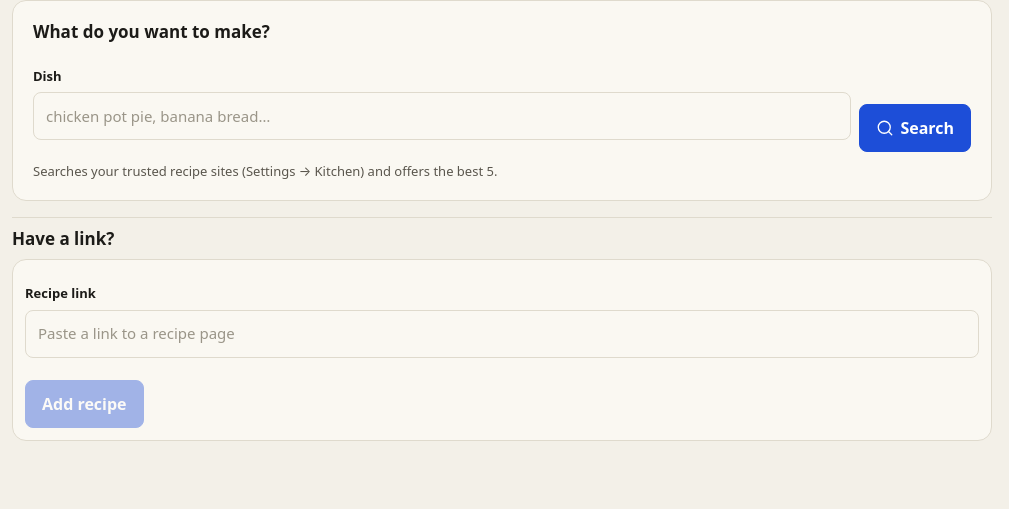
Search the web › finds a dish by name and ranks it by ratings and search position
Type "fried rice" into the search field labelled "Dish" at [442, 116], box [33, 92, 851, 140]
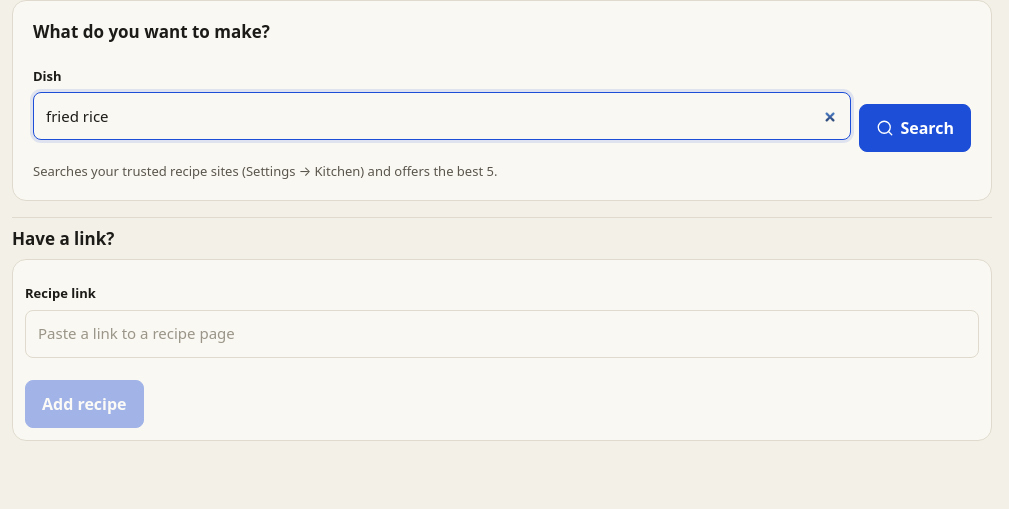
Click the button "Search" at [915, 128], box [859, 104, 971, 152]
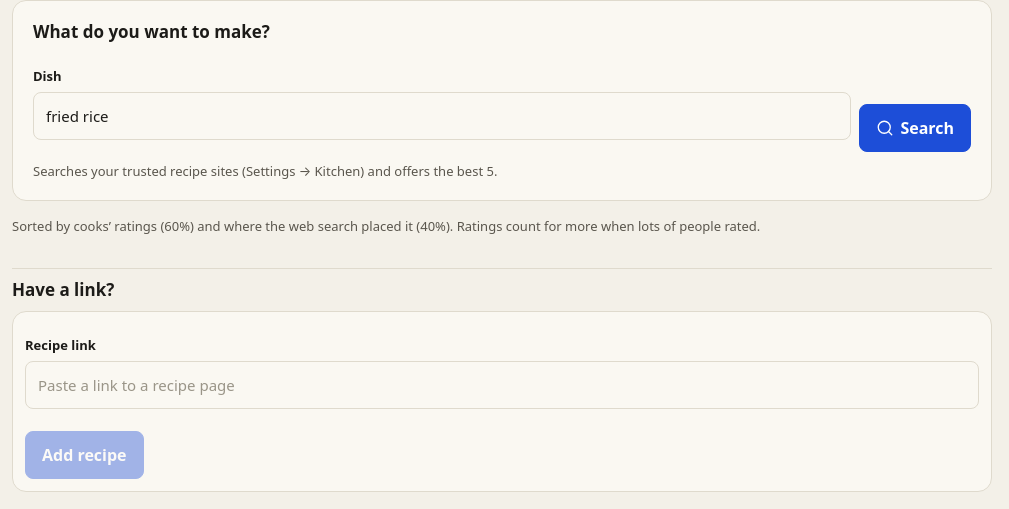
Expected: the text "Sorted by cooks’ ratings (60%) and where the web search placed it (40%)" is shown, [12, 216, 453, 234]
